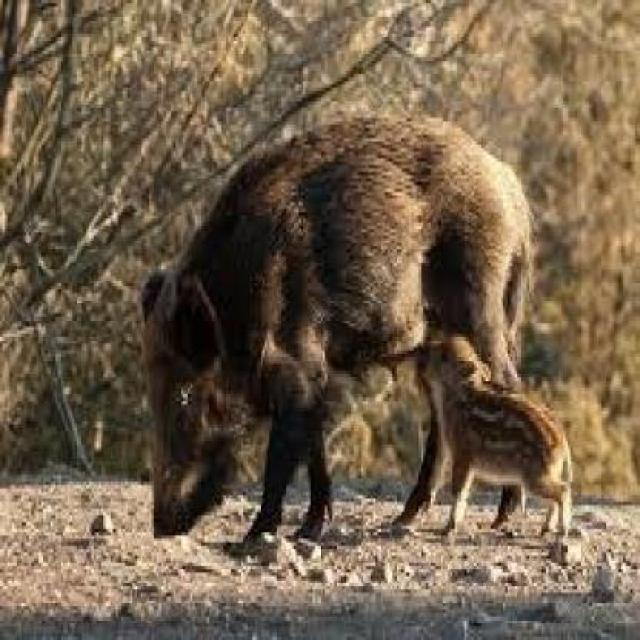wildboar: (136, 106, 542, 571), (412, 334, 576, 538)
